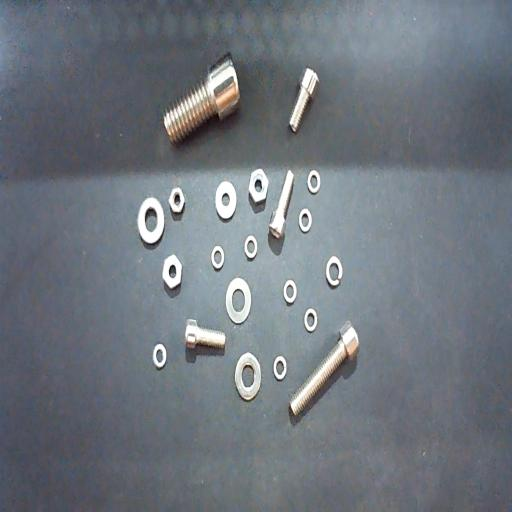nut: (162, 254, 182, 290), (248, 169, 268, 203), (168, 187, 185, 213)
screw: (163, 51, 241, 144), (290, 321, 360, 418), (289, 68, 319, 133), (269, 170, 294, 240), (185, 319, 226, 349)
washer: (137, 196, 164, 244), (235, 353, 261, 401), (226, 278, 252, 324), (215, 181, 236, 219), (326, 256, 342, 287), (283, 279, 297, 305), (307, 169, 321, 194), (244, 235, 258, 260), (304, 308, 318, 333), (298, 208, 312, 232), (211, 246, 225, 270), (273, 356, 287, 380), (153, 344, 166, 369)
